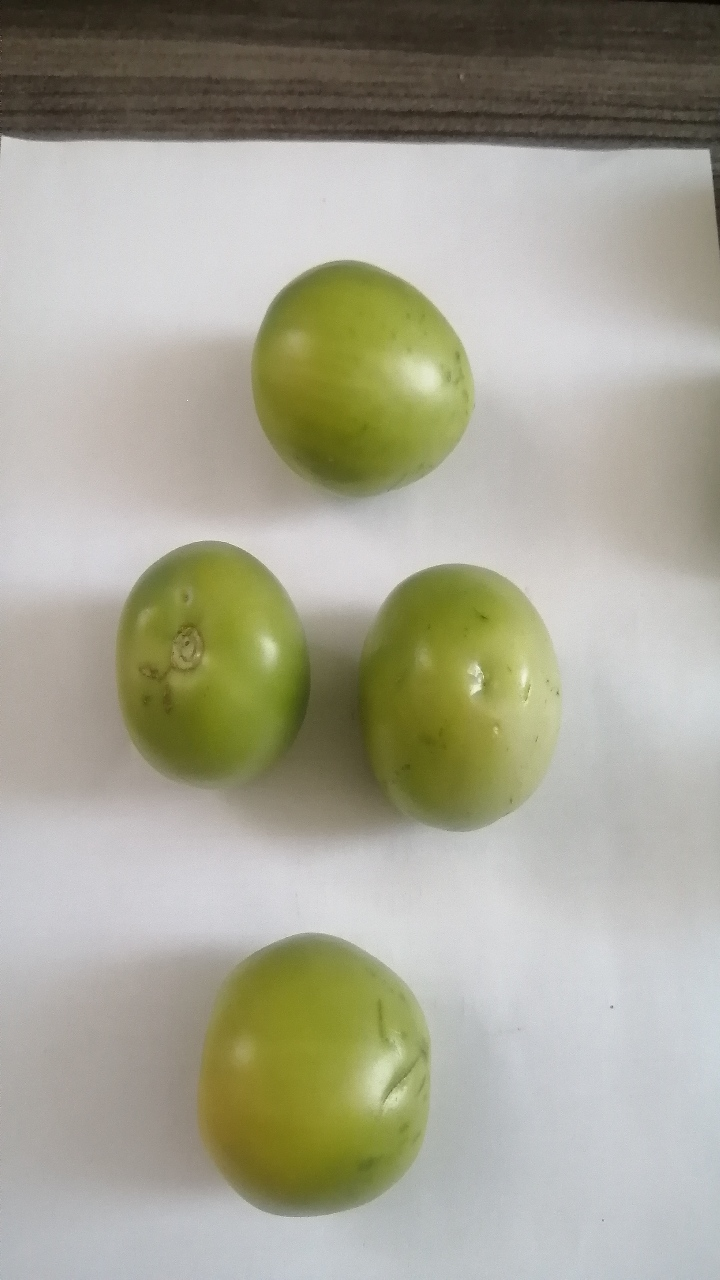tomateVerde: (186, 917, 448, 1229), (68, 523, 341, 820), (215, 249, 495, 508), (346, 548, 577, 843)
